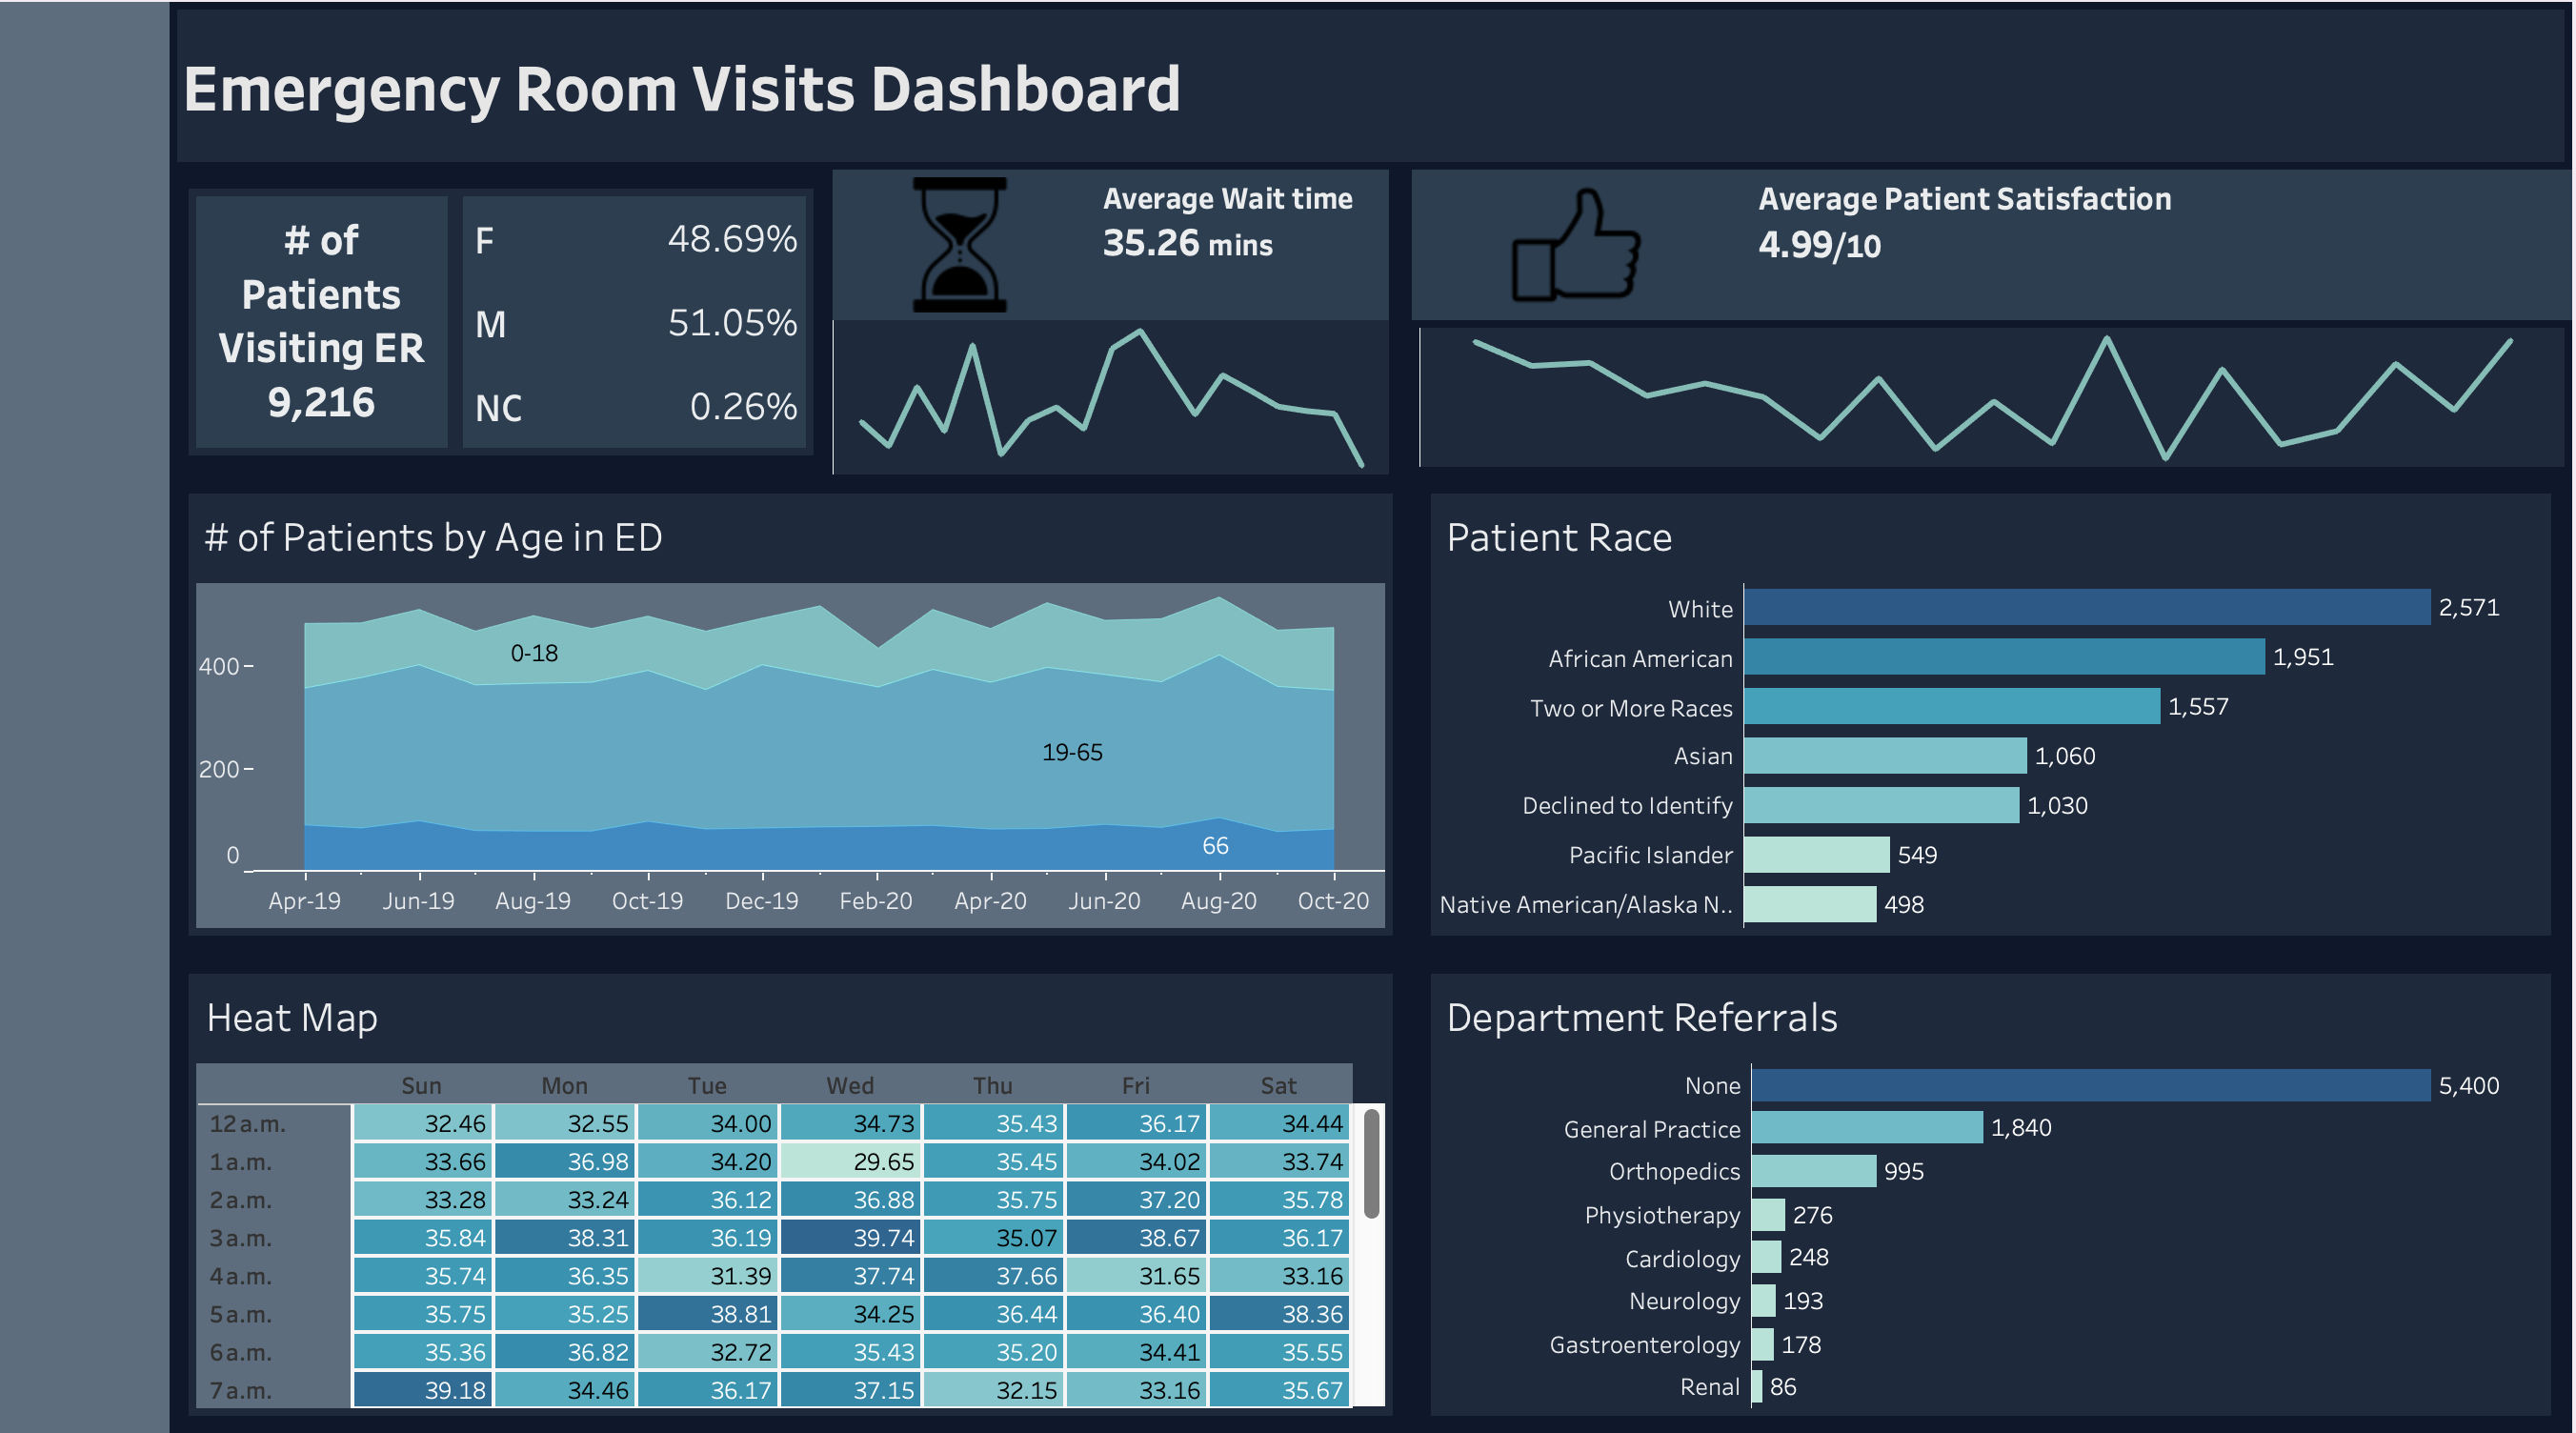

What the dashboard file says about the page in this screenshot:
{"tool":"tableau","page":{"name":"Dashboard 1","canvas":[1366,768],"ordinal":0},"visuals":[{"type":"text","box":[97,8,1261,88]},{"type":"image","param":"/Users/h/Desktop/Hourglass Logo.png","box":[445.2,96,133.8,79.5]},{"type":"worksheet","title":"Average WT","mark":"Automatic","box":[579,96,158.5,55]},{"type":"image","param":"/Users/h/Desktop/Thumbs up Logo.png","box":[749.5,96,173.5,79.5]},{"type":"worksheet","title":"Average Sat","mark":"Automatic","box":[923,96,435,56]},{"type":"worksheet","title":"# of Pats ED","mark":"Automatic","box":[107,106,140,140]},{"type":"worksheet","title":"Gender","mark":"Automatic","rows":["patient_gender"],"box":[247,106,188.2,140]},{"type":"worksheet","title":"Patient Satisfaction","mark":"Automatic","rows":["patient_sat_score"],"cols":["date"],"box":[749,175,609,81]},{"type":"worksheet","title":"Patient Wait time","mark":"Automatic","rows":["patient_waittime"],"cols":["date"],"box":[445.2,175.5,304.2,80.5]},{"type":"worksheet","title":"# of Pat by Age ","mark":"Area","rows":["patient_id"],"cols":["date"],"box":[107,266,632.5,232]},{"type":"worksheet","title":"Bar Graph Race","mark":"Automatic","rows":["patient_race"],"cols":["patient_id"],"box":[759.5,266,588.5,232]},{"type":"worksheet","title":"Heat Map","mark":"Square","rows":["date"],"cols":["date"],"box":[107,518,632.5,232]},{"type":"worksheet","title":"Bar Graph Race (2)","mark":"Automatic","rows":["department_referral"],"cols":["patient_id"],"box":[759.5,518,588.5,232]}]}

Visuals, with their boxes in screenshot pixels (x1, y1, x2, y2), scaled from the page's 1366x768 canvas onto the 2576x1433 screenshot:
text: box=[183, 15, 2561, 179]
image: box=[839, 179, 1092, 328]
"Average WT" worksheet: box=[1092, 179, 1391, 282]
image: box=[1414, 179, 1741, 328]
"Average Sat" worksheet: box=[1741, 179, 2561, 284]
"# of Pats ED" worksheet: box=[202, 198, 466, 459]
"Gender" worksheet: box=[466, 198, 820, 459]
"Patient Satisfaction" worksheet: box=[1413, 327, 2561, 477]
"Patient Wait time" worksheet: box=[839, 328, 1413, 477]
"# of Pat by Age " worksheet (Area marks): box=[202, 496, 1395, 929]
"Bar Graph Race" worksheet: box=[1432, 496, 2542, 929]
"Heat Map" worksheet (Square marks): box=[202, 966, 1395, 1400]
"Bar Graph Race (2)" worksheet: box=[1432, 966, 2542, 1400]
